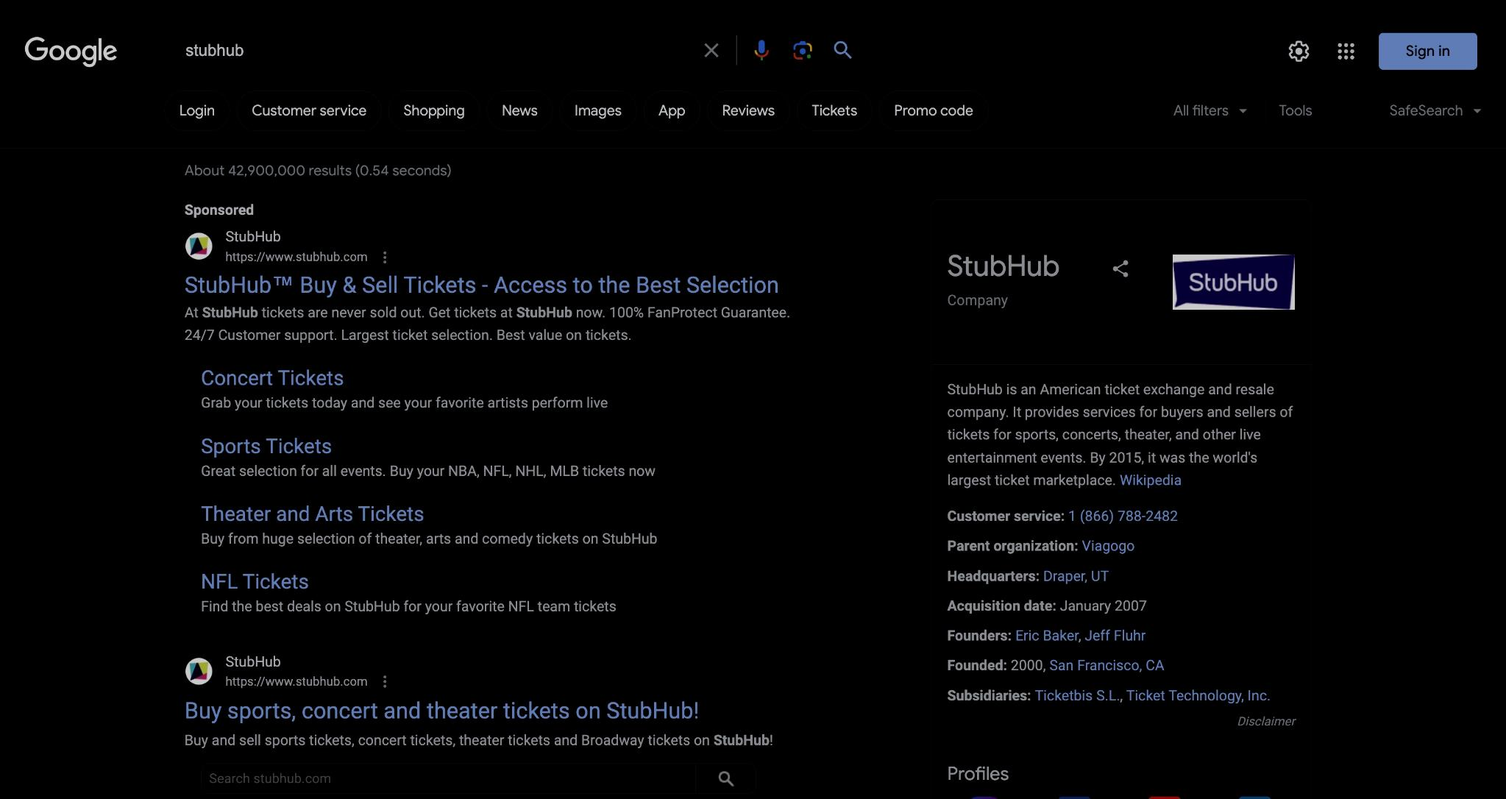webelement: (184, 198, 852, 621), (931, 192, 1312, 799), (184, 652, 852, 799), (0, 89, 1505, 146), (164, 89, 1149, 130), (0, 26, 852, 73), (947, 380, 1292, 488), (184, 304, 790, 344), (200, 364, 782, 391), (200, 432, 782, 458), (200, 500, 782, 526), (200, 568, 782, 594), (200, 763, 696, 793), (185, 38, 686, 63), (184, 279, 778, 296), (184, 730, 772, 747), (947, 760, 1296, 785), (1156, 253, 1310, 309), (184, 706, 698, 721), (237, 89, 381, 130), (1377, 90, 1494, 138), (200, 501, 423, 525), (11, 58, 123, 103), (11, 87, 123, 132), (878, 89, 988, 130), (946, 247, 1059, 284), (1161, 89, 1262, 130), (388, 89, 480, 130), (200, 365, 343, 390), (1379, 32, 1477, 68), (706, 89, 789, 130), (560, 89, 637, 130), (200, 433, 331, 457), (796, 89, 871, 130), (24, 36, 118, 67), (225, 226, 367, 246), (225, 651, 367, 671), (163, 89, 230, 130), (486, 89, 553, 130), (200, 569, 308, 593), (225, 672, 367, 690), (1126, 687, 1271, 704), (642, 89, 700, 130), (1014, 627, 1144, 644), (686, 27, 735, 72), (252, 100, 366, 119), (947, 537, 1073, 554), (1269, 89, 1321, 130), (225, 250, 367, 264), (827, 27, 871, 72), (1049, 657, 1164, 674), (947, 507, 1060, 524), (1068, 507, 1178, 524), (1389, 100, 1487, 119), (740, 27, 781, 72), (695, 763, 756, 793), (782, 27, 822, 72), (947, 596, 1051, 613), (1278, 30, 1319, 70), (1325, 30, 1366, 70), (1100, 248, 1140, 288), (947, 566, 1035, 583), (894, 100, 972, 119), (1059, 596, 1146, 613), (1034, 687, 1119, 704), (184, 199, 253, 219), (947, 687, 1026, 704), (404, 100, 465, 119), (1043, 566, 1108, 583), (1014, 627, 1077, 644), (1119, 471, 1180, 488), (1084, 627, 1145, 644), (947, 290, 1007, 307), (947, 627, 1007, 644), (721, 100, 774, 119), (946, 657, 1002, 674), (225, 228, 280, 245), (1081, 537, 1134, 554), (710, 763, 740, 793), (575, 100, 622, 119), (811, 100, 856, 119), (1236, 713, 1294, 727), (376, 670, 416, 690), (1406, 41, 1449, 59), (179, 100, 214, 119), (502, 100, 537, 119), (658, 100, 684, 119), (376, 246, 394, 269), (189, 236, 207, 254), (189, 662, 207, 680), (1037, 795, 1111, 799), (1127, 795, 1201, 799), (947, 795, 1020, 799), (1218, 795, 1291, 799), (967, 795, 1000, 799), (1238, 795, 1271, 799), (1058, 795, 1090, 799), (1148, 795, 1180, 799), (1002, 657, 1006, 674), (1116, 471, 1119, 488), (1061, 507, 1064, 524), (1074, 537, 1077, 554), (1035, 566, 1038, 583), (1052, 596, 1055, 613), (1008, 627, 1011, 644), (1027, 687, 1030, 704)
